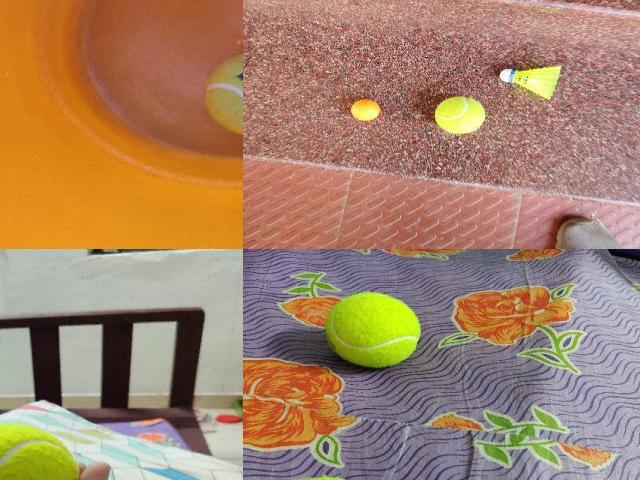tennis-ball: (324, 292, 422, 368), (0, 423, 78, 479), (205, 51, 242, 137), (434, 96, 486, 134)
